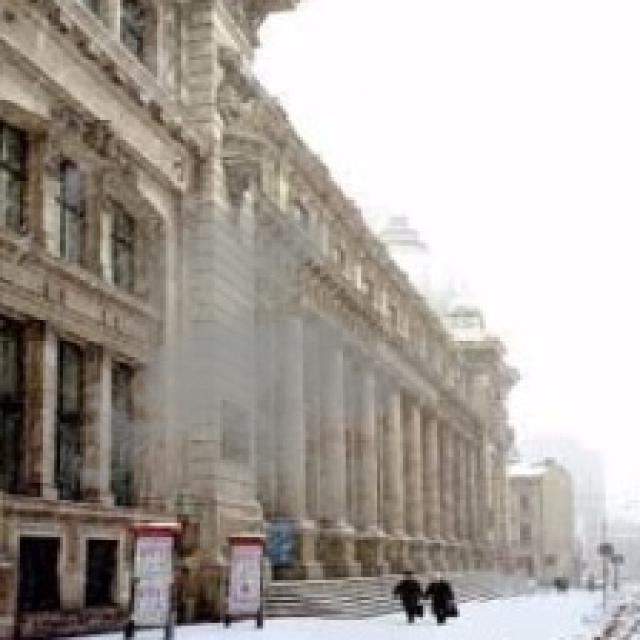smoke: (57, 192, 463, 537)
